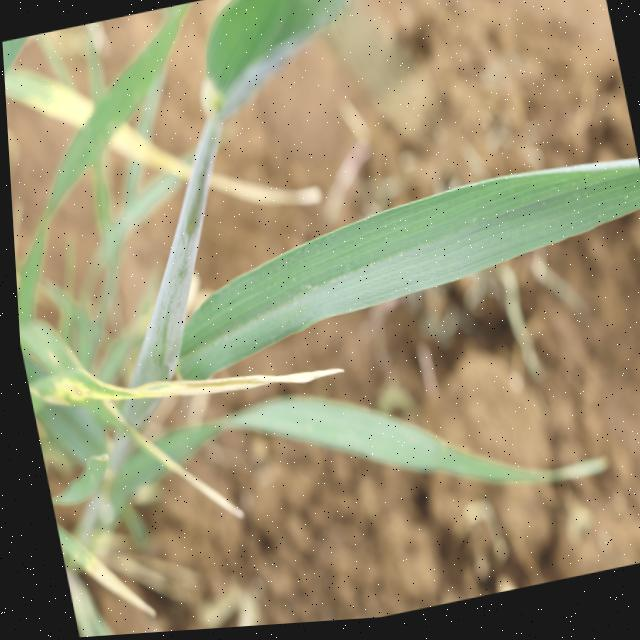healthy_wheat: (136, 145, 640, 386), (211, 338, 584, 556), (84, 118, 269, 386), (170, 0, 430, 131), (2, 33, 56, 125)
